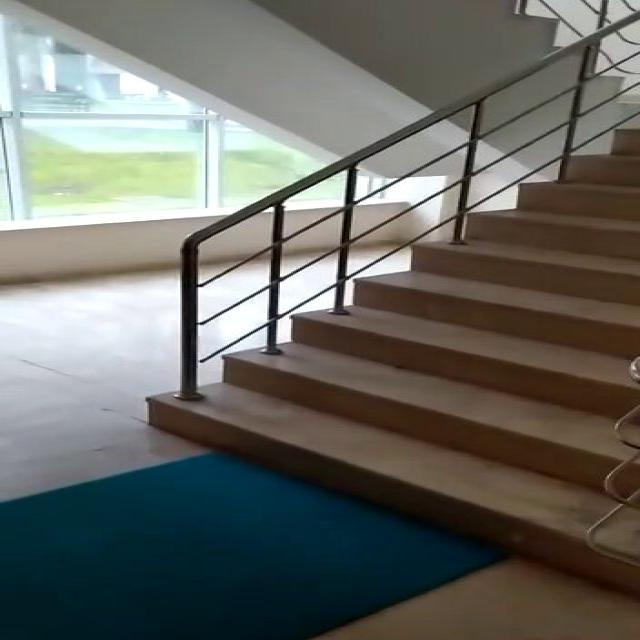stair: (123, 90, 640, 605)
